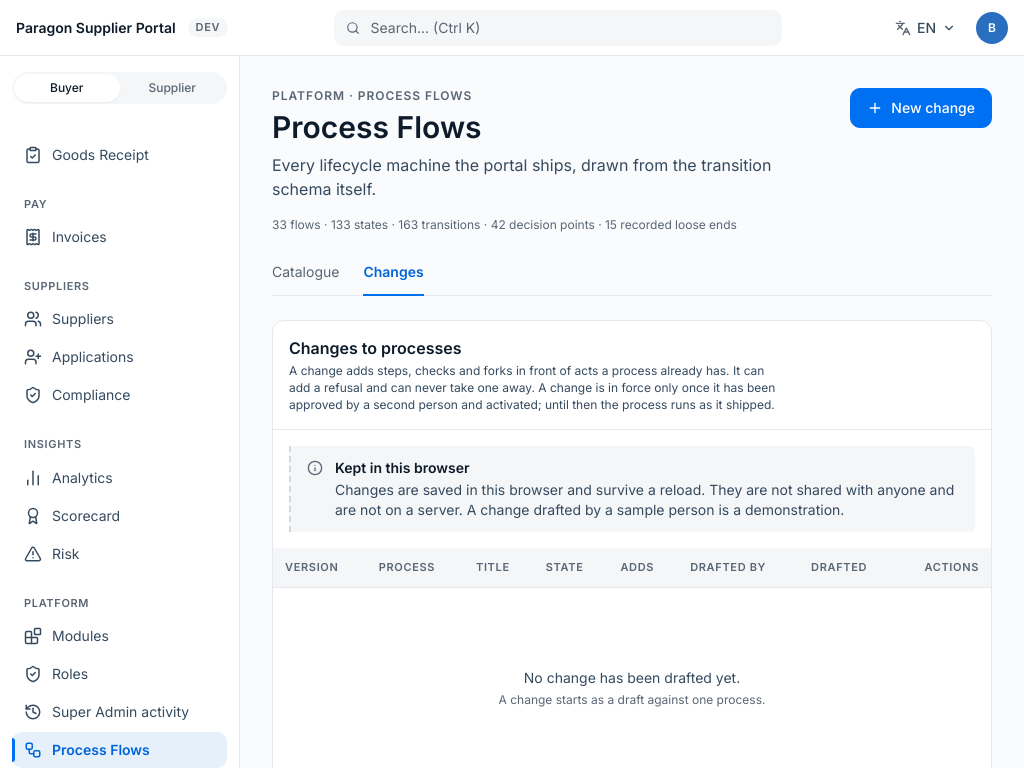
FB-1 · starting a change › a seat that names nobody is told so before the act and refused in words; nothing is created
The image size is (1024, 768).
(page scrolled)
Click the button with test id "fb-new-change": (921, 108) [850, 88, 992, 128]
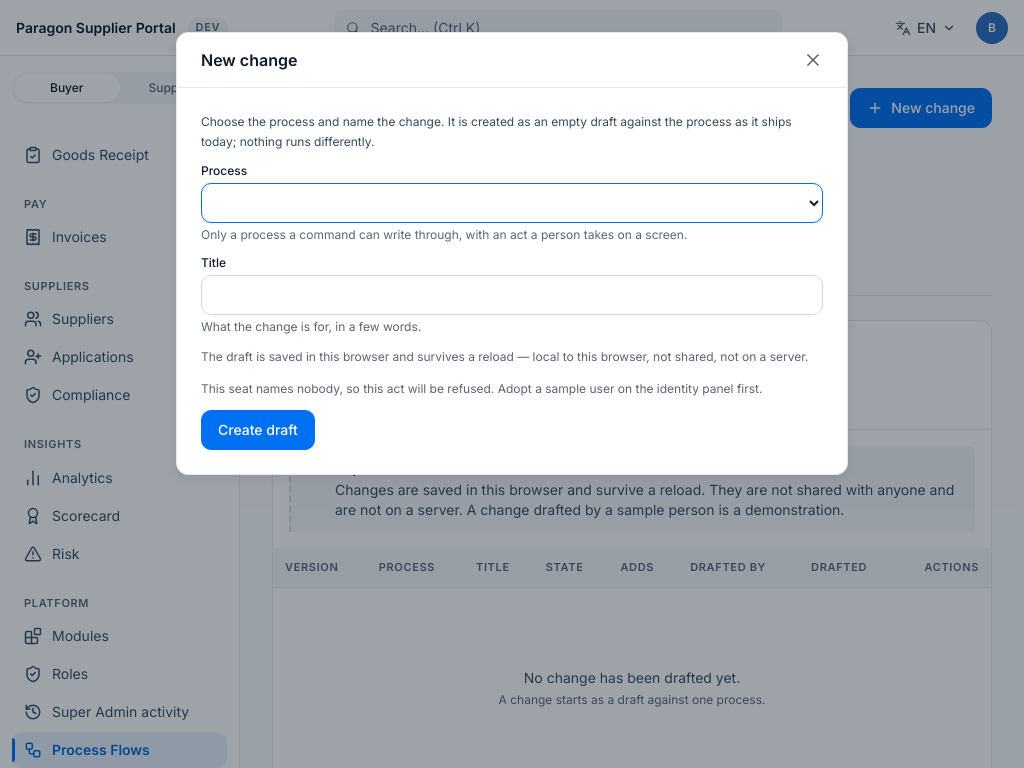
Expected: the text with test id "fb-create-actor" shows "This seat names nobody, so this act will be refused. Adopt a sample user on the identity panel first.", [201, 381, 762, 396]
In the field with test id "fb-create-title": (512, 295) [201, 275, 823, 315], type "Unnamed"
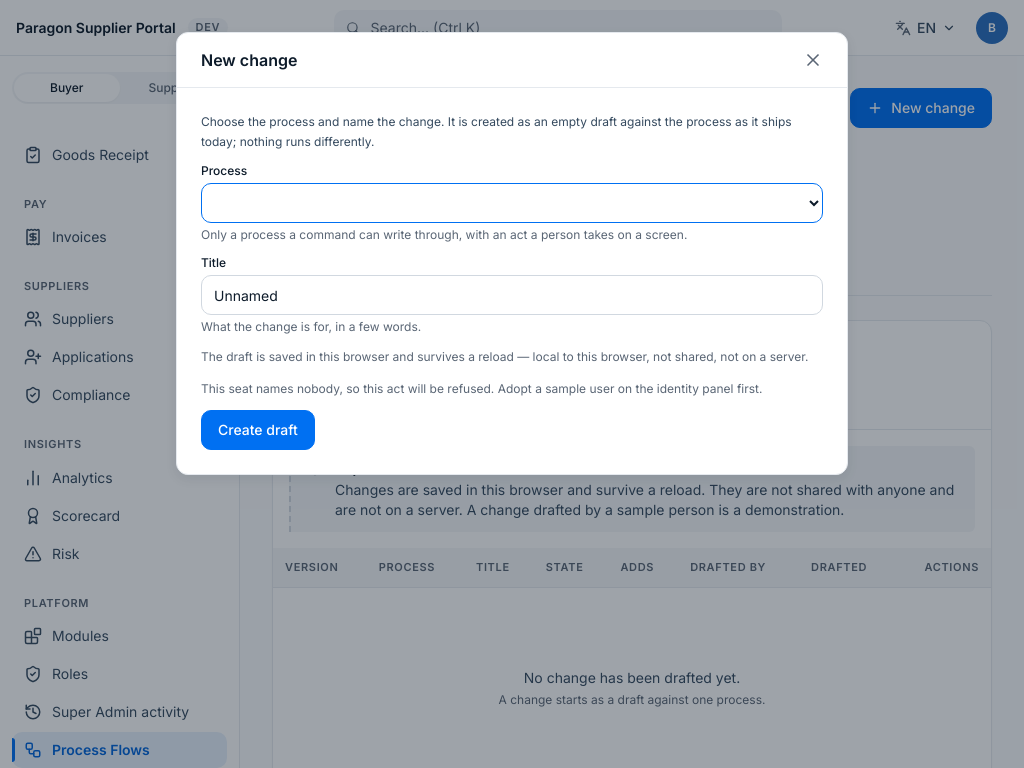
Click the button with test id "fb-create-submit": (258, 430) [201, 410, 315, 450]
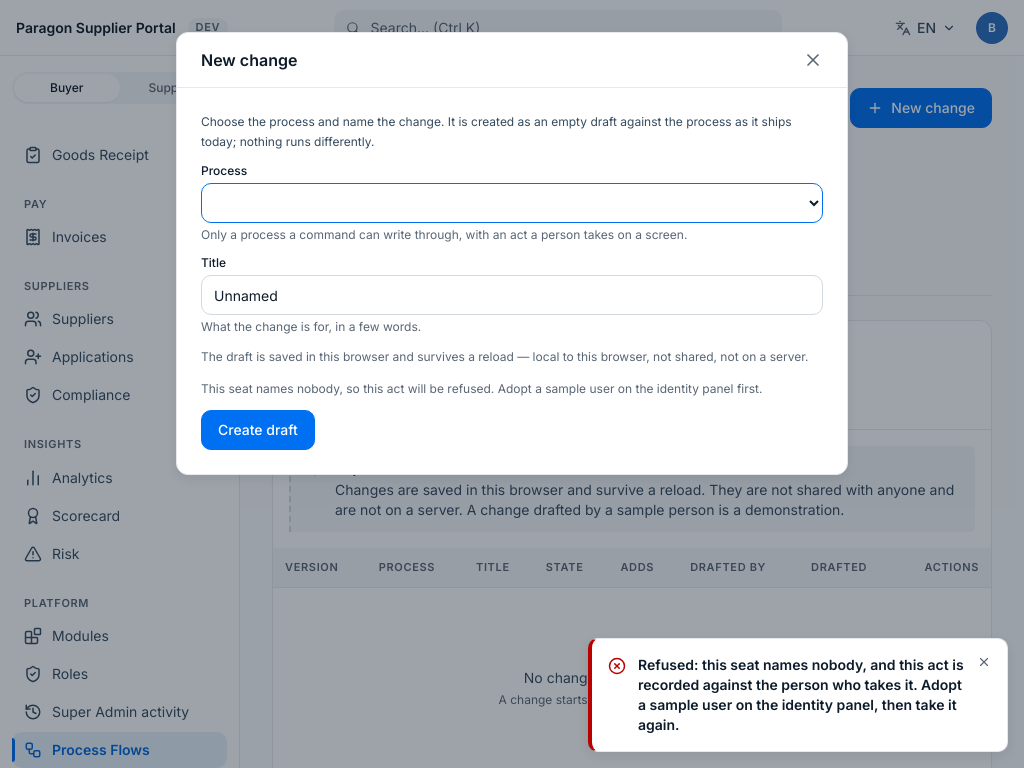
Expected: the dialog with test id "fb-create-dialog" is shown, [176, 32, 848, 475]
Expected: the text "Refused: this seat names nobody, and this act is recorded against the person who takes it. Adopt a sample user on the id" is shown, [638, 656, 964, 733]
